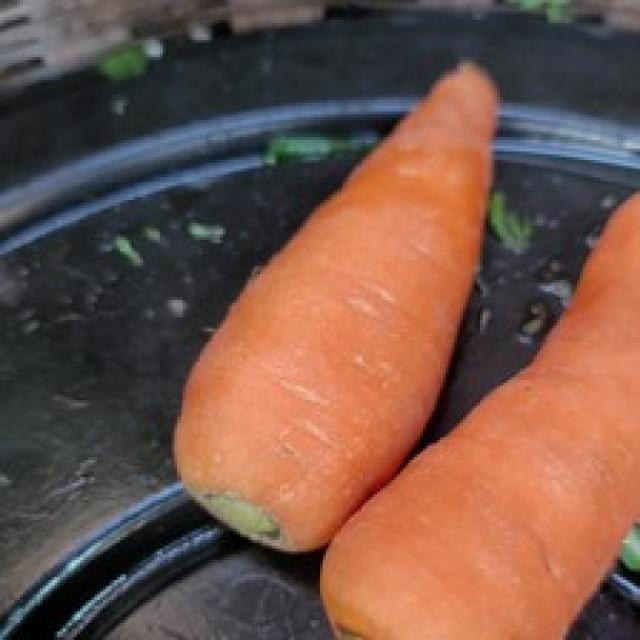Fresh_Carrot: (194, 52, 401, 542)
